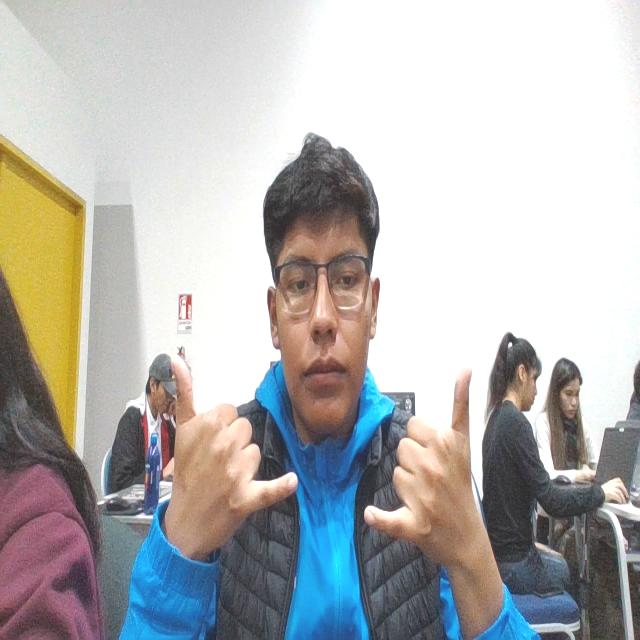now: (158, 338, 481, 576)
